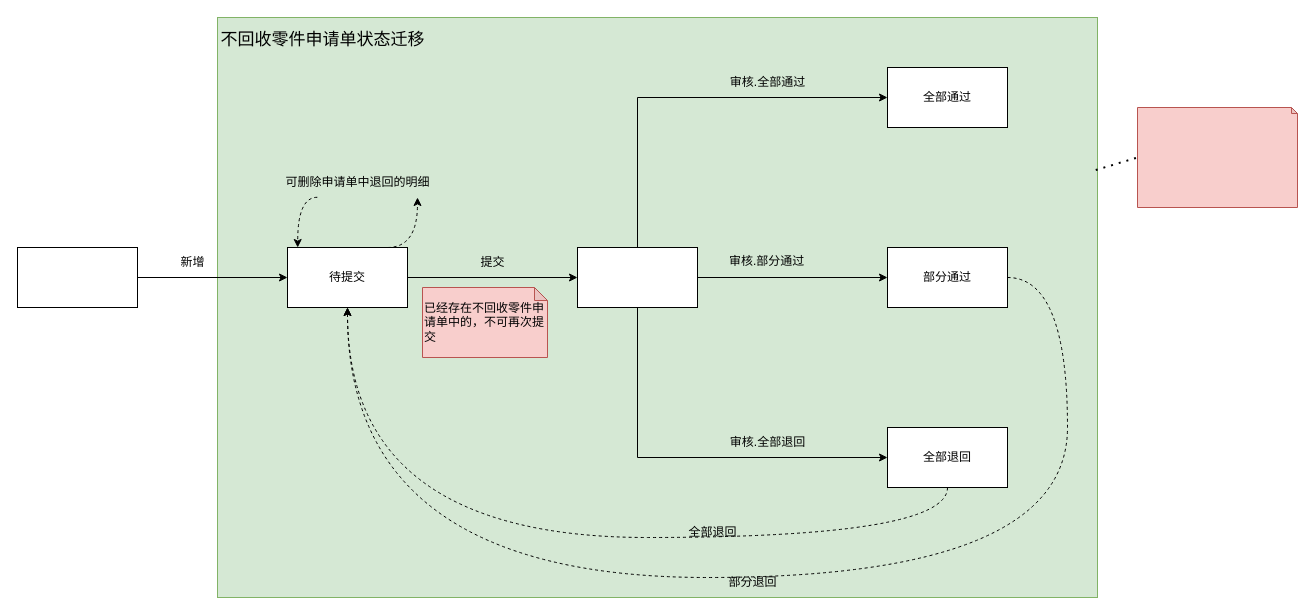
Some shapes in this 1315 by 615 pixel diagram are drawn without their labels. The shapes that lost their labels are listed below. From the top down, each one's centre as x and y in pixels, then its label:
At pixel 1217 157: "不回收零件申请单为基础配置项，不参与其他聚合根的业务逻辑。仅为零件回收主单提供导出时的筛选条件".
At pixel 77 277: "start".
At pixel 637 277: "待EDER审核".
